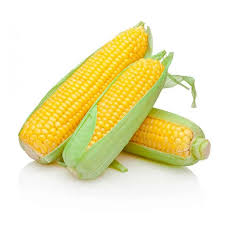milho: (28, 23, 208, 181)
